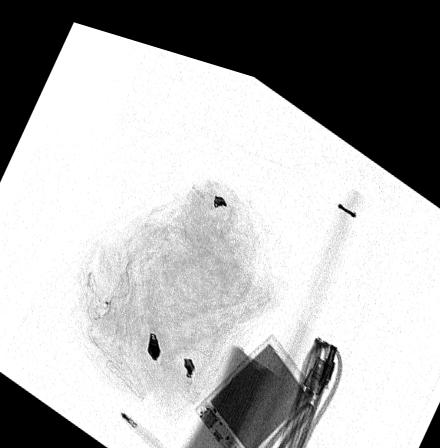Powerbank: (193, 315, 317, 448)
